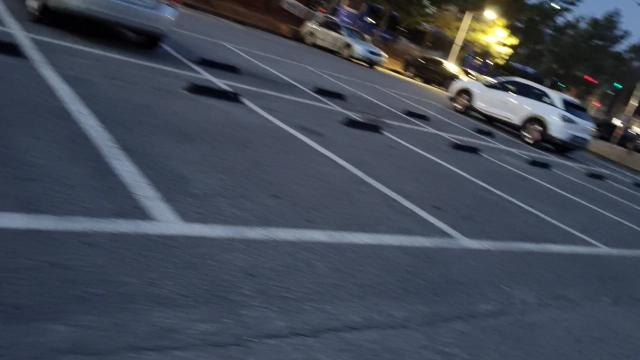empty: (2, 22, 472, 252), (198, 74, 608, 258), (346, 104, 640, 260), (440, 130, 640, 234)
